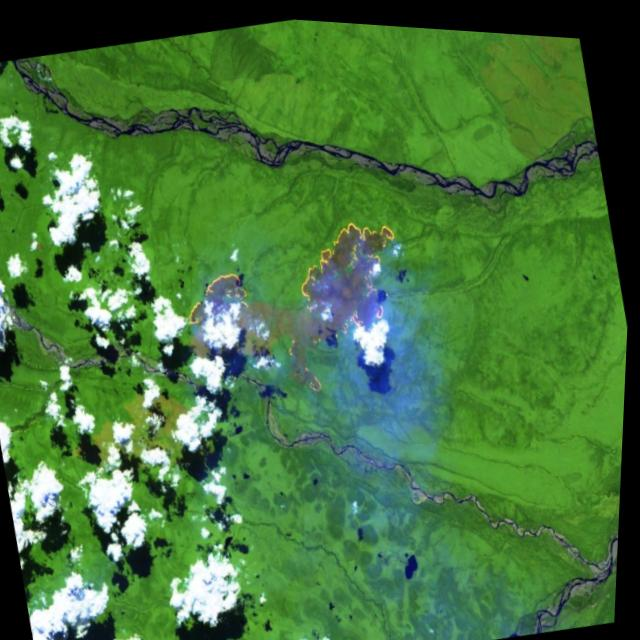fire: (159, 195, 433, 434)
